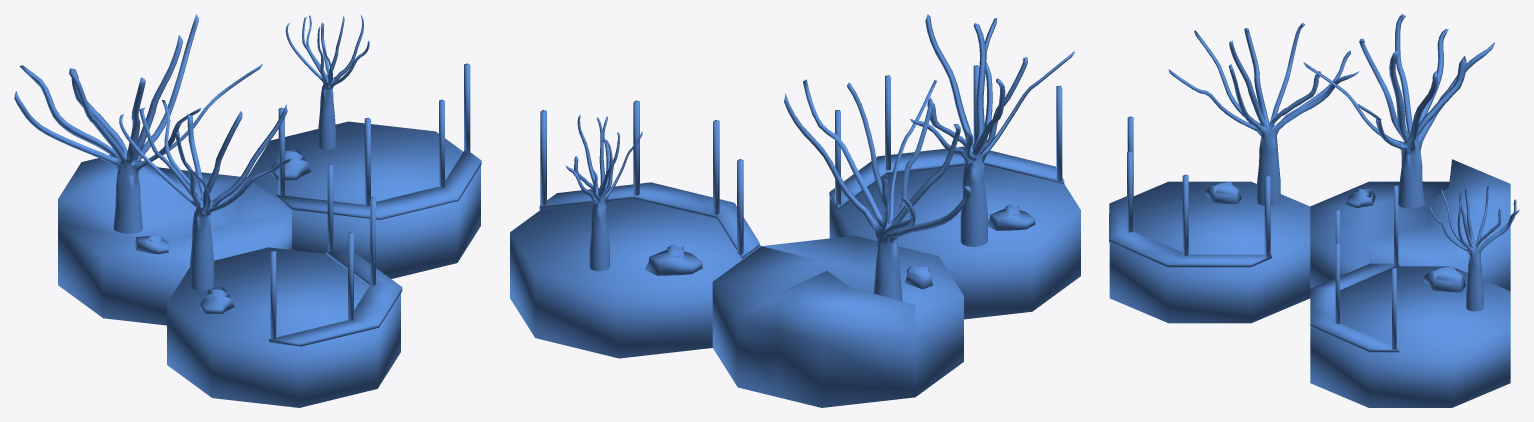
Rendered from Zoo_GiraffeEnclosure.fbx.
3 views of the same model, side by side, from view 1: azimuth 30°, elevation 25°; view 2: azimuth 150°, elevation 25°; view 3: azimuth 270°, elevation 25° (orthographic). The views are drawn at different scales.
Visible parts, largest first — view 1: Zoo_GiraffeEnclosure; view 2: Zoo_GiraffeEnclosure; view 3: Zoo_GiraffeEnclosure.
Boxes of the visible parts, <box> form: Zoo_GiraffeEnclosure: <box>14,14,481,407</box>; Zoo_GiraffeEnclosure: <box>510,14,1080,407</box>; Zoo_GiraffeEnclosure: <box>1109,14,1519,407</box>.
Bounding box in the file's own units: 1424 × 796 × 1291.
